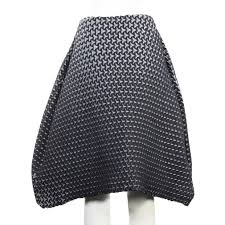C_skirt: (34, 13, 204, 217)
